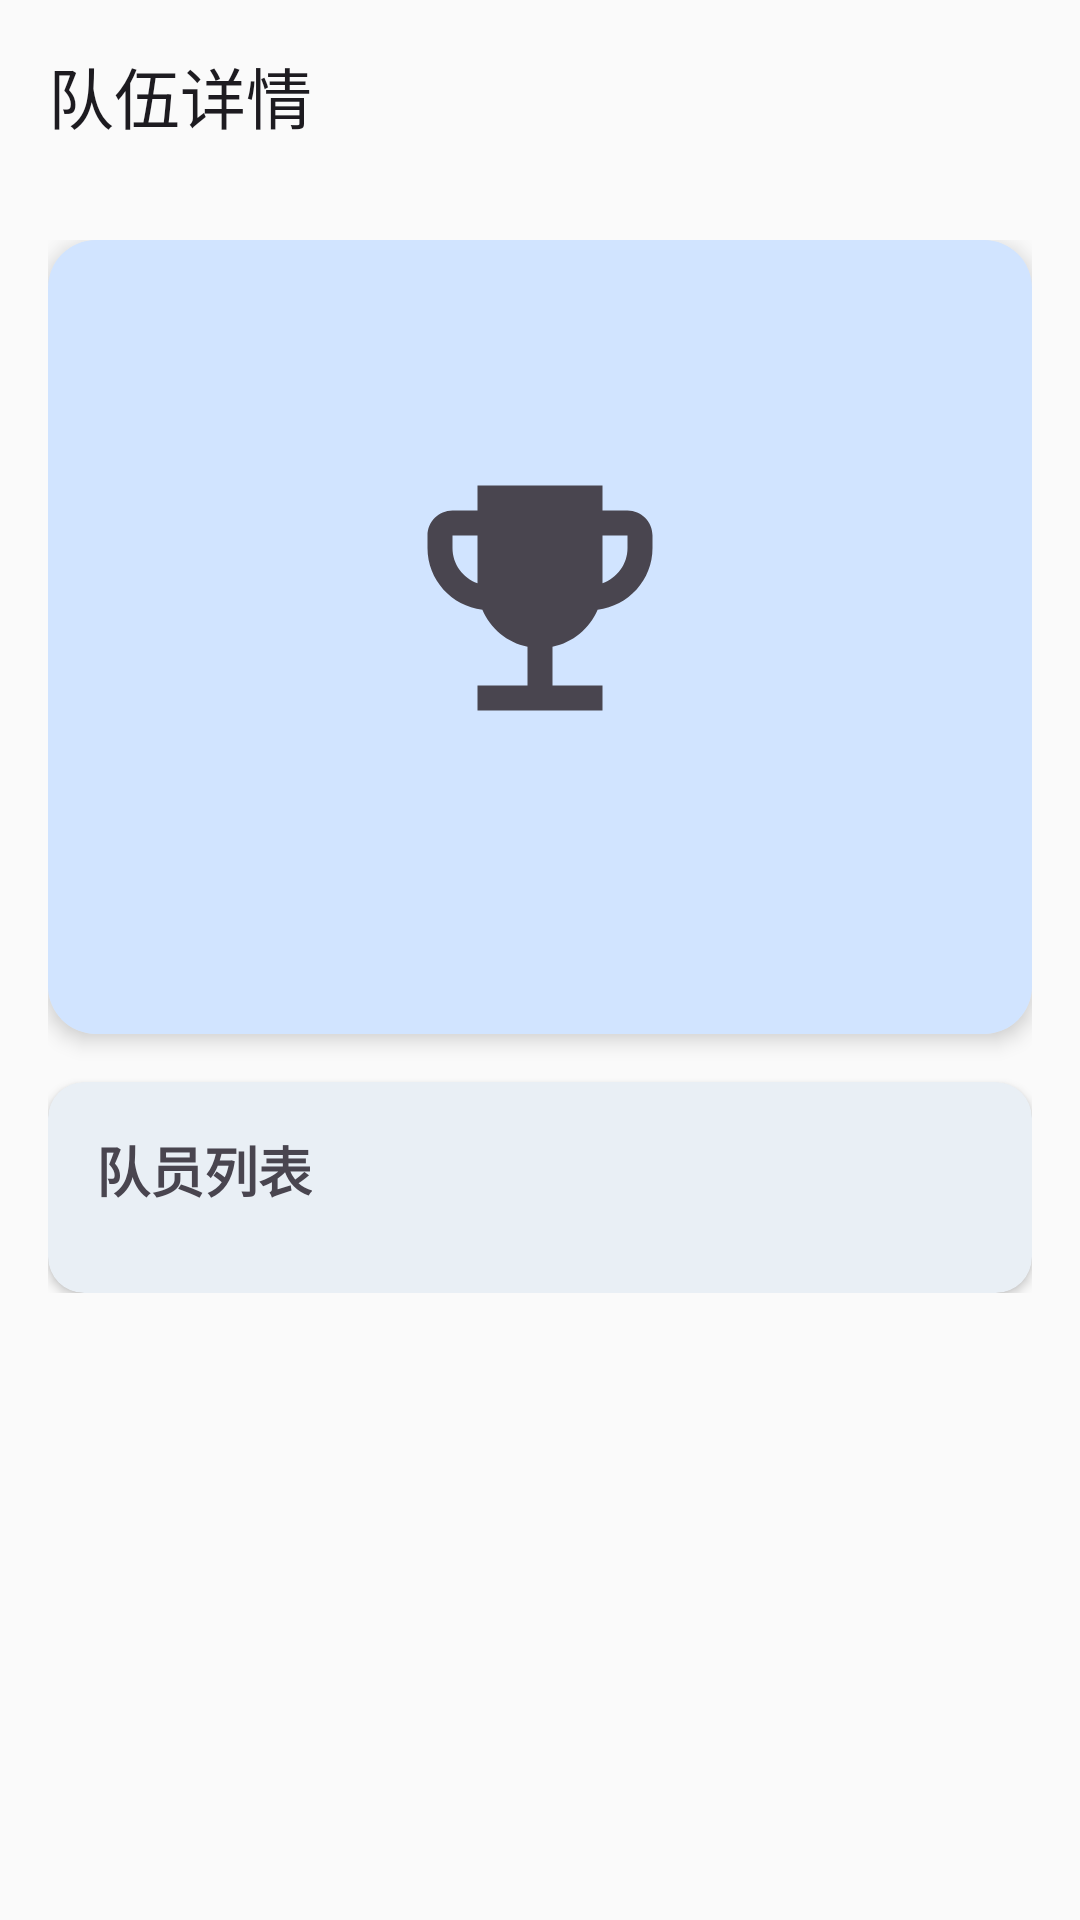

Icons on this 1080 × 1920 Android screen, each with its box as (x1, y1, x2, y2):
trophy: (427, 485, 653, 711)
